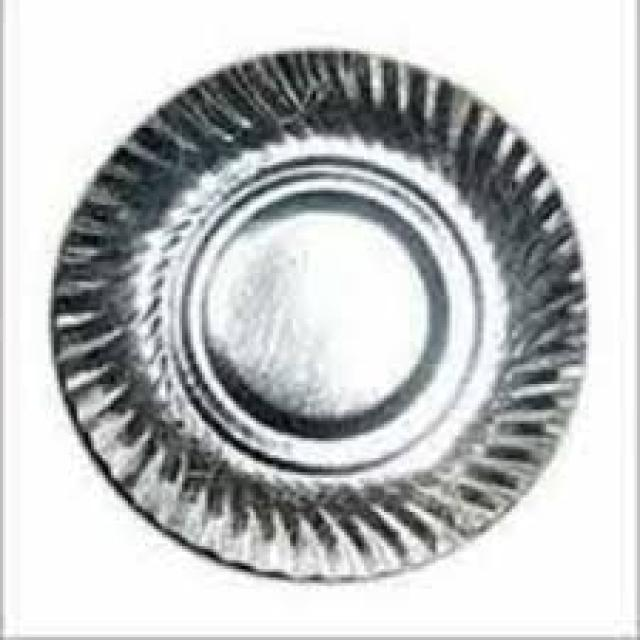metal: (45, 46, 586, 581)
